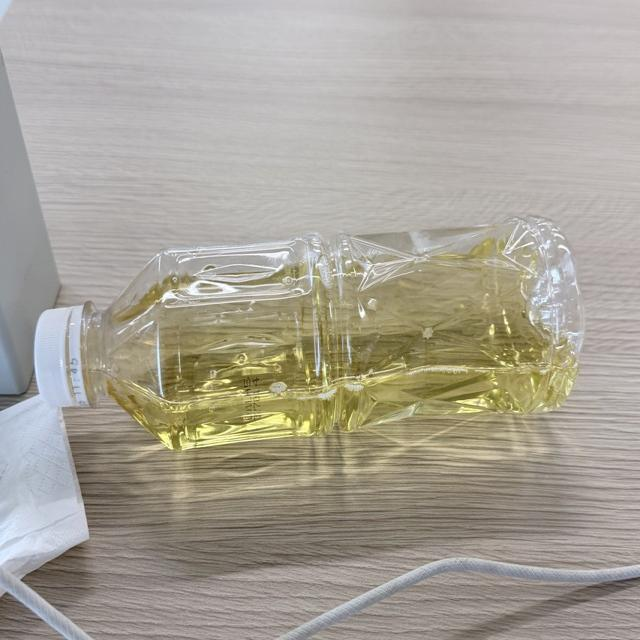medium: (34, 217, 584, 449)
